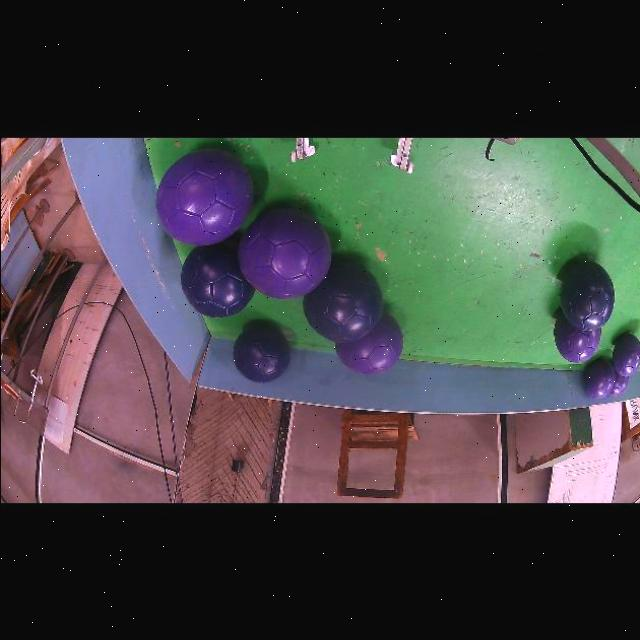B: (302, 261, 383, 343), (180, 238, 253, 318), (558, 261, 614, 330), (232, 323, 289, 382)
P: (156, 149, 252, 245), (237, 207, 331, 299), (335, 312, 403, 375), (553, 312, 600, 363), (582, 358, 614, 399), (612, 333, 640, 376), (608, 372, 628, 396)
